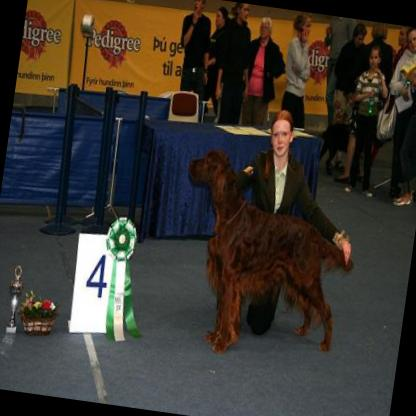Irish_setter: (160, 140, 367, 368)
